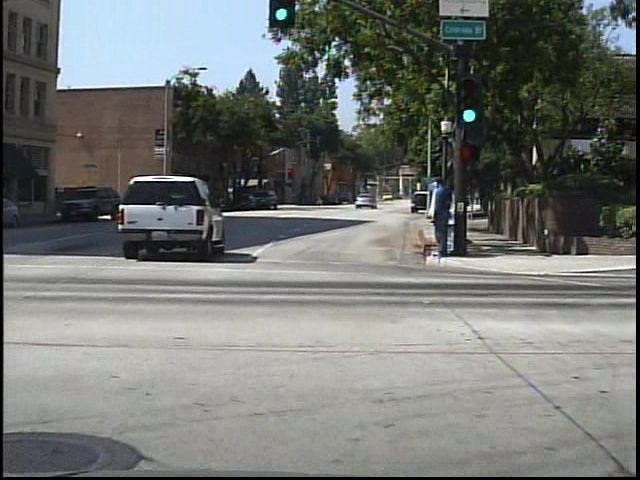person: (427, 173, 455, 259), (421, 178, 444, 262), (314, 193, 325, 208)
